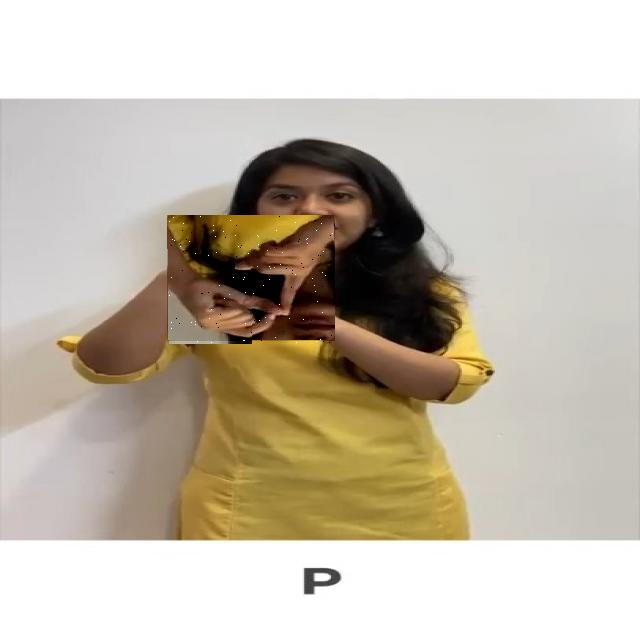P: (167, 215, 335, 344)
